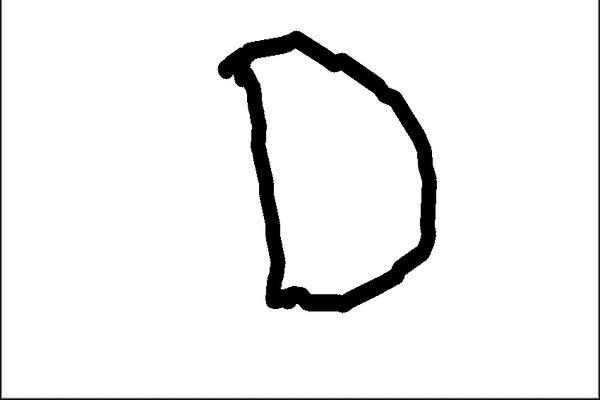D: (212, 26, 445, 316)
